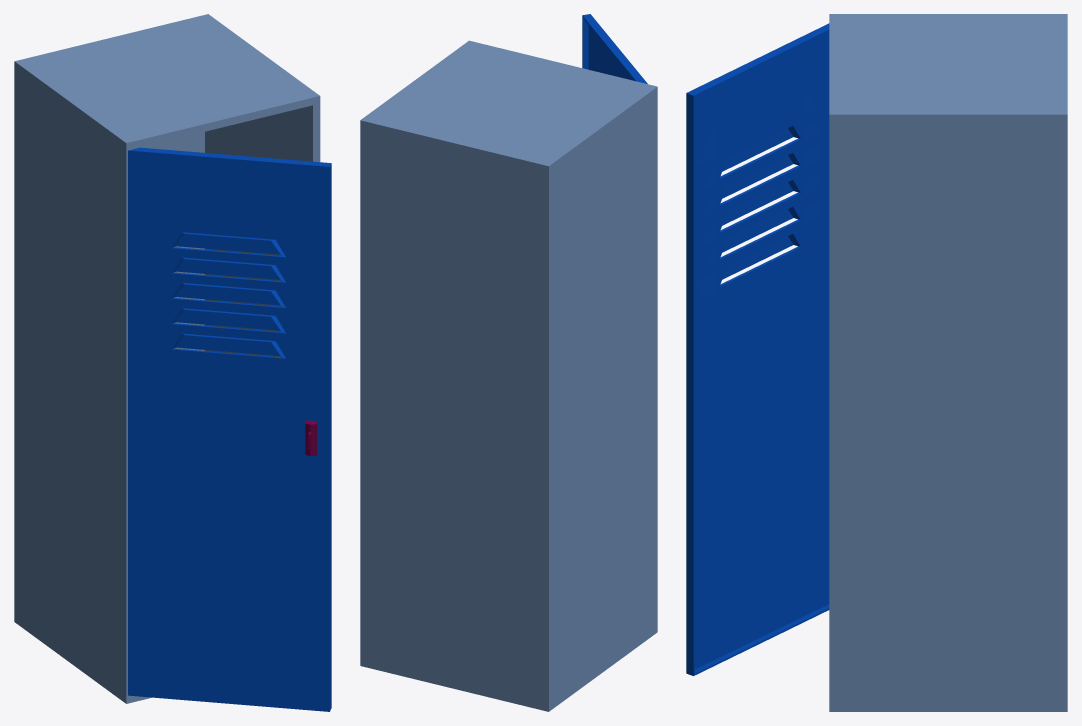
The model's file is locker.fbx.
3 renders of one model, left to right at view 1: azimuth 30°, elevation 25°; view 2: azimuth 150°, elevation 25°; view 3: azimuth 270°, elevation 25°, orthographic. The views are drawn at different scales.
Parts seen in each view (by area): view 1: LockerDoor, Locker; view 2: Locker, LockerDoor; view 3: Locker, LockerDoor.
Boxes of the visible parts, bbox=[...] form: LockerDoor: bbox=[128, 147, 331, 711]; Locker: bbox=[14, 14, 320, 703]; Locker: bbox=[360, 40, 657, 711]; LockerDoor: bbox=[582, 14, 647, 83]; Locker: bbox=[829, 14, 1067, 711]; LockerDoor: bbox=[686, 23, 829, 675].
Bounding box in the file's own units: 81.24 × 225 × 130.
